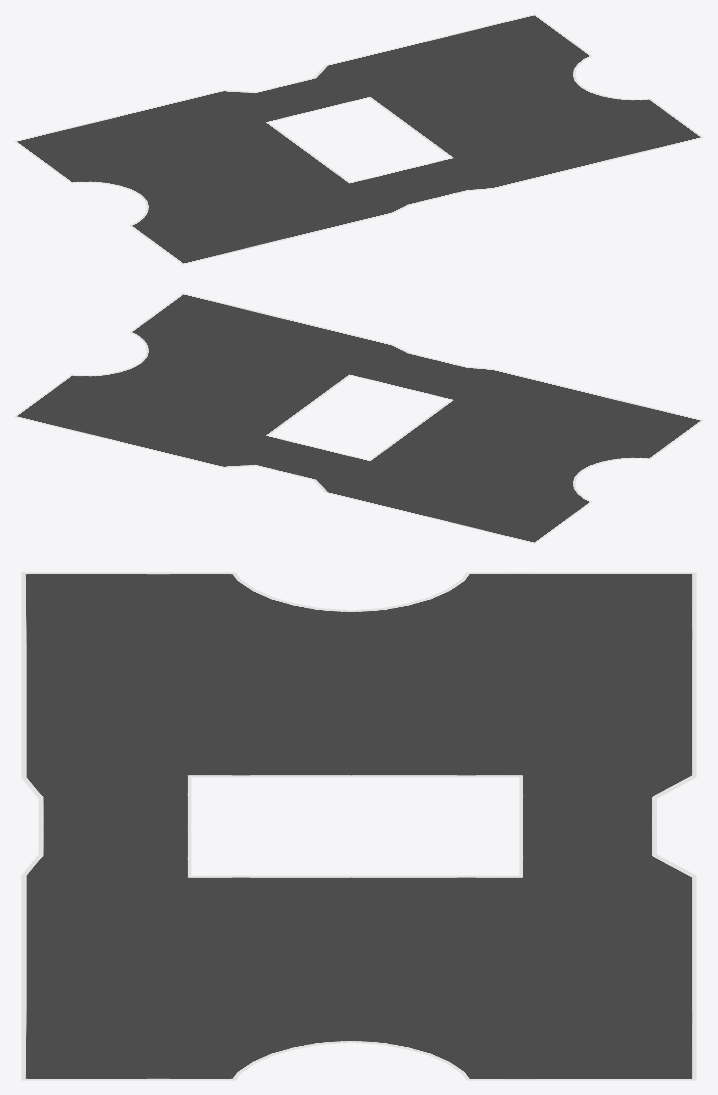
File: ramkaHell.fbx
3 views of the same model, one above another, from view 1: azimuth 30°, elevation 25°; view 2: azimuth 150°, elevation 25°; view 3: azimuth 270°, elevation 25° (orthographic). The views are drawn at different scales.
Parts seen in each view (by area): view 1: FullQuarterHell; view 2: FullQuarterHell; view 3: FullQuarterHell.
Part boxes in pixels (x1,y1,x2,y2): FullQuarterHell: (14, 14, 703, 264); FullQuarterHell: (14, 293, 703, 543); FullQuarterHell: (21, 572, 696, 1080).
Bounding box in the file's own units: 2442 × 0 × 1371.
